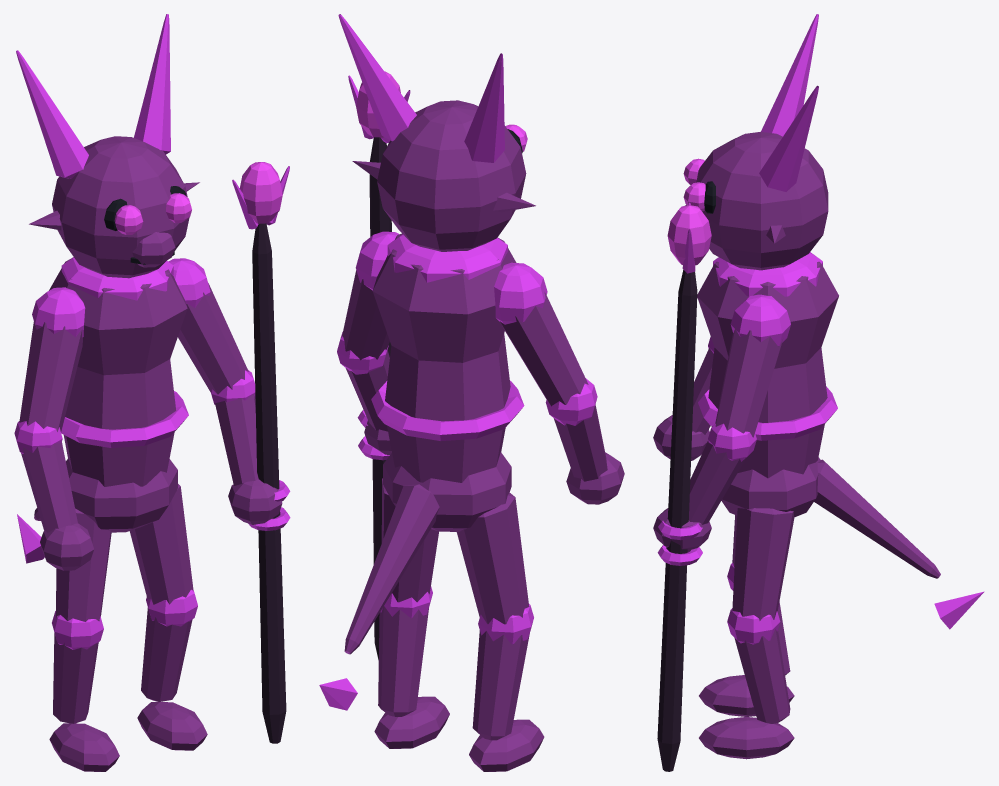
The model's file is imp_shaman.obj.
The picture shows the model from 3 angles, left to right: view 1: azimuth 30°, elevation 25°; view 2: azimuth 150°, elevation 25°; view 3: azimuth 270°, elevation 25°; orthographic projection. The views are drawn at different scales.
Parts seen in each view (by area): view 1: torso, head, staff_shaft, arm_upper_L, pelvis, leg_upper_R, arm_upper_R, leg_upper_L, arm_lower_L, leg_lower_R, horn_L, leg_lower_L (+19 smaller); view 2: torso, head, leg_upper_L, tail, pelvis, arm_upper_L, leg_lower_R, leg_lower_L, sash, collar, horn_R, horn_L (+17 smaller); view 3: torso, head, staff_shaft, leg_upper_R, arm_upper_R, tail, pelvis, leg_lower_R, foot_R, arm_lower_R, horn_R, horn_L (+12 smaller).
Boxes of the visible parts, box(x1,y1,x2,y2) form: torso: box(49, 259, 187, 486); head: box(52, 136, 189, 278); staff_shaft: box(252, 223, 286, 743); arm_upper_L: box(19, 321, 82, 431); pelvis: box(66, 458, 177, 532); leg_upper_R: box(129, 484, 193, 604); arm_upper_R: box(178, 283, 248, 394); leg_upper_L: box(56, 508, 111, 621); arm_lower_L: box(21, 442, 77, 532); leg_lower_R: box(141, 607, 192, 701); horn_L: box(16, 50, 88, 178); leg_lower_L: box(53, 632, 98, 723); torso: box(372, 233, 516, 482); head: box(377, 100, 526, 251); leg_upper_L: box(456, 492, 529, 624); tail: box(344, 484, 439, 654); pelvis: box(383, 452, 511, 531); arm_upper_L: box(500, 292, 588, 406); leg_lower_R: box(378, 606, 428, 716); leg_lower_L: box(472, 630, 529, 740); sash: box(371, 380, 524, 440); collar: box(387, 234, 507, 282); horn_R: box(338, 14, 416, 141); horn_L: box(464, 53, 504, 162); torso: box(697, 261, 838, 478); head: box(696, 131, 828, 270); staff_shaft: box(657, 270, 697, 771); leg_upper_R: box(732, 508, 794, 620); arm_upper_R: box(715, 326, 783, 437); tail: box(814, 459, 940, 578); pelvis: box(721, 457, 820, 517); leg_lower_R: box(734, 629, 790, 723); foot_R: box(699, 717, 794, 759); arm_lower_R: box(689, 440, 745, 524); horn_R: box(759, 85, 818, 191); horn_L: box(761, 14, 818, 136).
Size of the model in its own units: 0.7263 by 1.92 by 0.8446.
